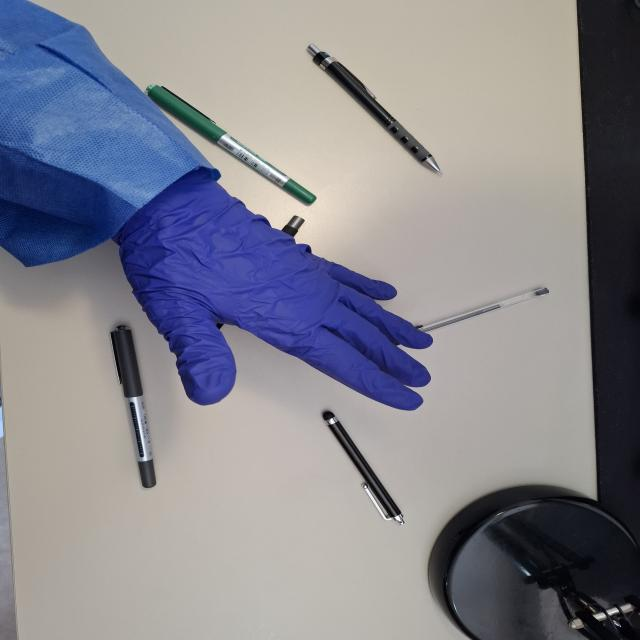glove_on: (108, 169, 439, 417)
